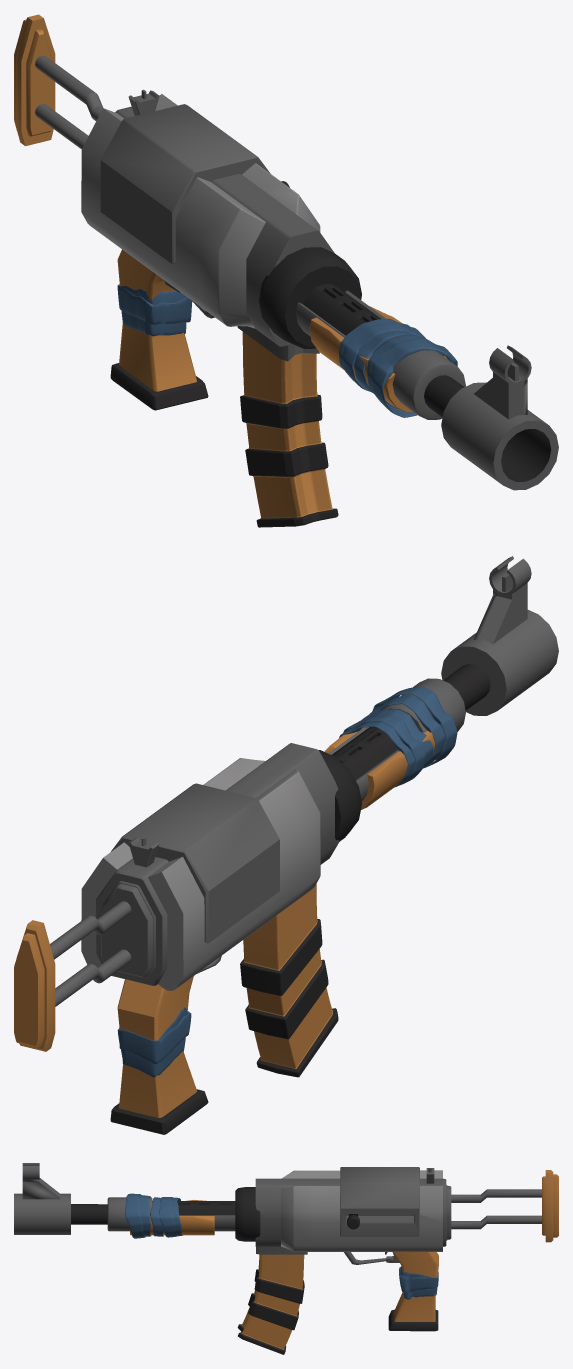
File: Rifle.fbx
The picture shows the model from 3 angles, top to bottom: view 1: azimuth 30°, elevation 25°; view 2: azimuth 150°, elevation 25°; view 3: azimuth 270°, elevation 25°; orthographic projection. The views are drawn at different scales.
Parts seen in each view (by area): view 1: Rifle, Magazine; view 2: Rifle, Magazine; view 3: Rifle, Magazine.
Part boxes in pixels (bbox=[...]): Rifle: bbox=[14, 14, 558, 490]; Magazine: bbox=[240, 332, 338, 527]; Rifle: bbox=[14, 556, 558, 1134]; Magazine: bbox=[240, 884, 338, 1077]; Rifle: bbox=[14, 1163, 558, 1331]; Magazine: bbox=[237, 1254, 304, 1354].
Size of the model in its own units: 51.94 by 134 by 357.
